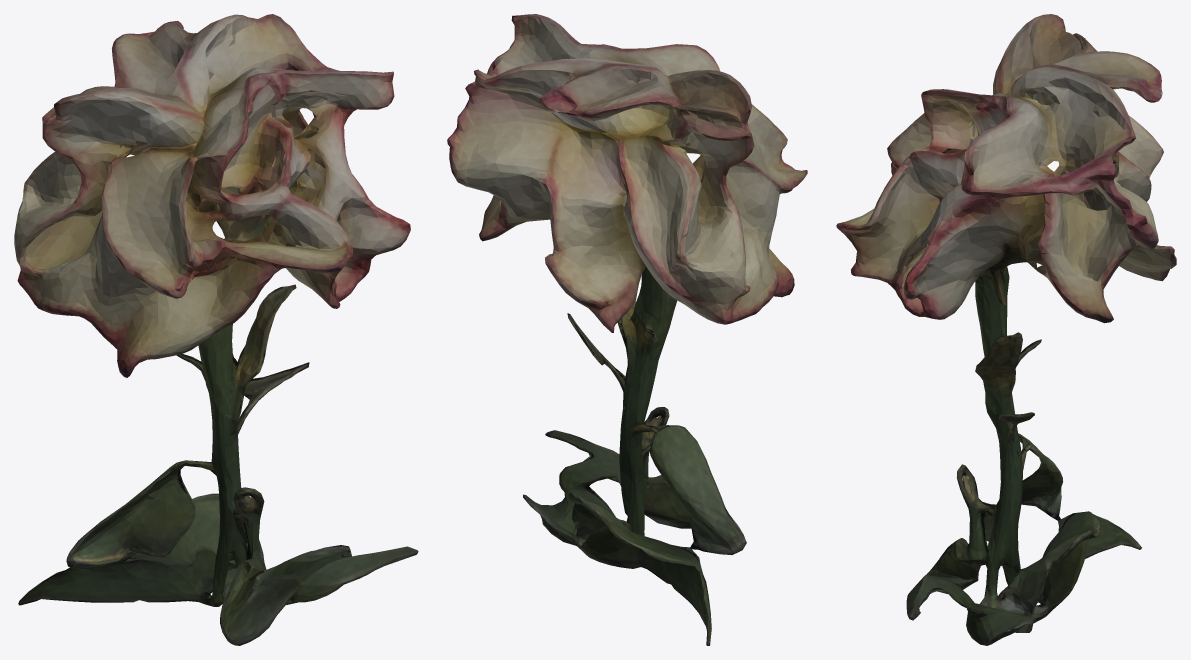
3 renders of one model, left to right at view 1: azimuth 30°, elevation 25°; view 2: azimuth 150°, elevation 25°; view 3: azimuth 270°, elevation 25°, orthographic. The views are drawn at different scales.
Parts seen in each view (by area): view 1: world; view 2: world; view 3: world.
Part boxes in pixels (bbox=[...]): world: bbox=[14, 14, 418, 645]; world: bbox=[447, 14, 807, 645]; world: bbox=[836, 14, 1176, 645].
Bounding box in the file's own units: 0.5591 × 0.9561 × 0.535.
Materials: 1 (1 with a texture image).
